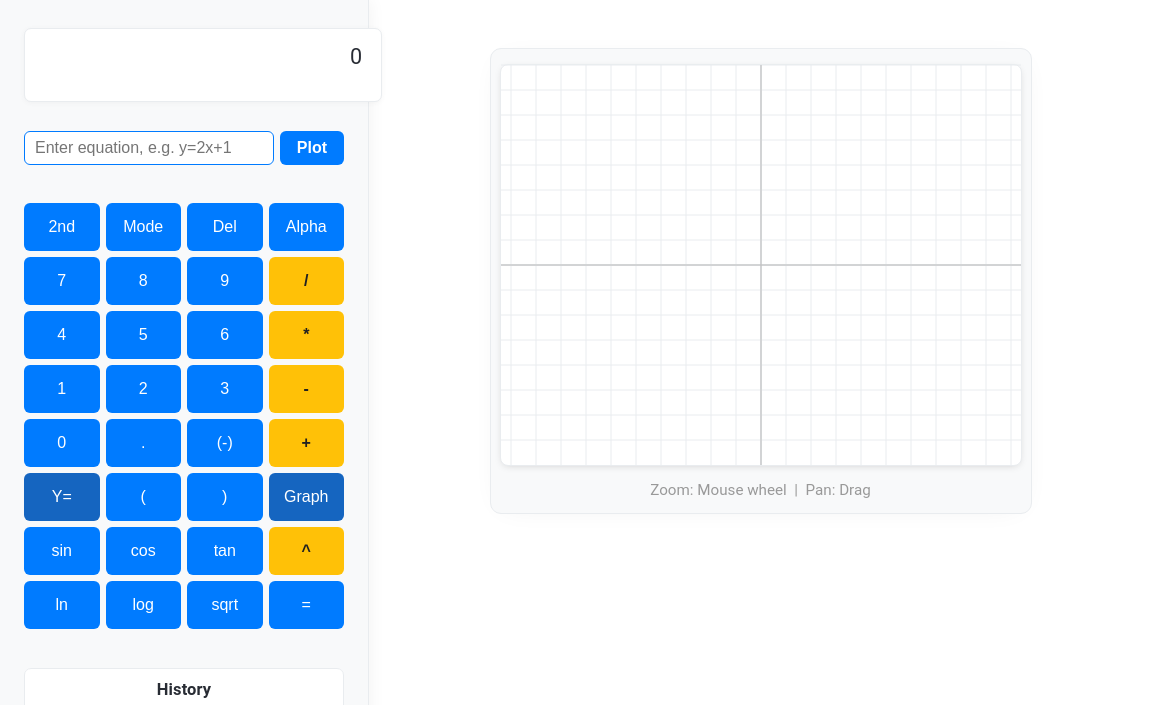
TI-84 Graphing Calculator App › numeric keypad input updates equation
Click the button "Y=" at (62, 497), box [24,473,100,521]
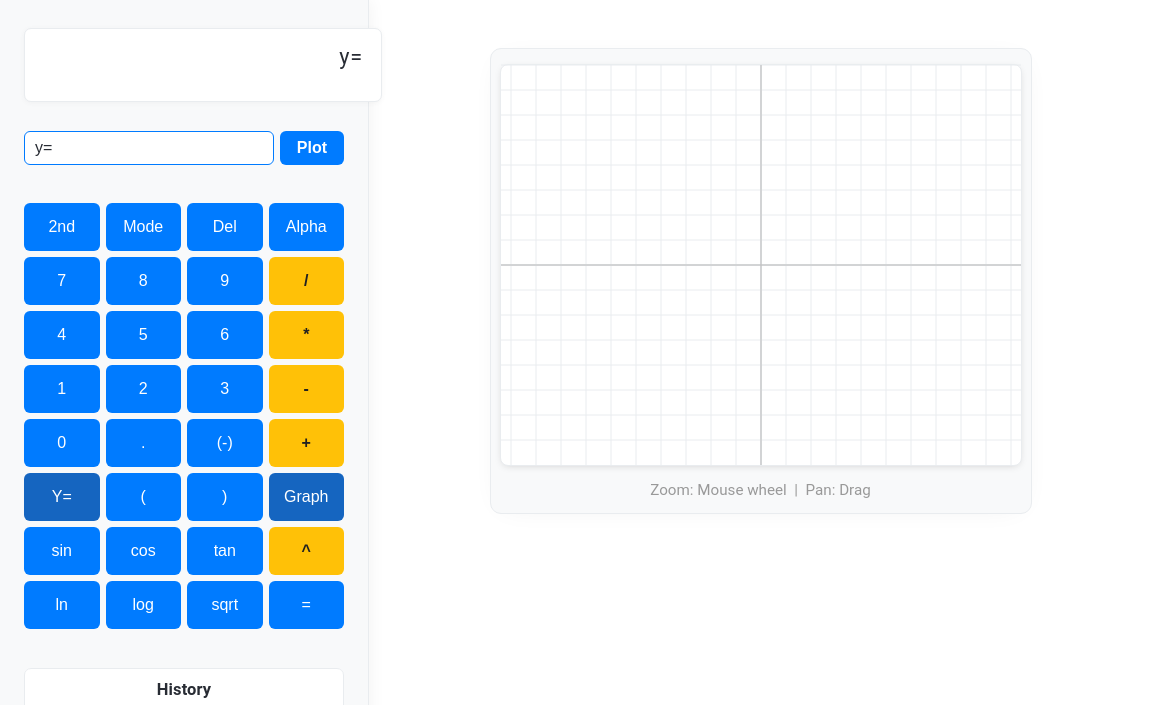
Click the button "1" at (62, 389), box [24,365,100,413]
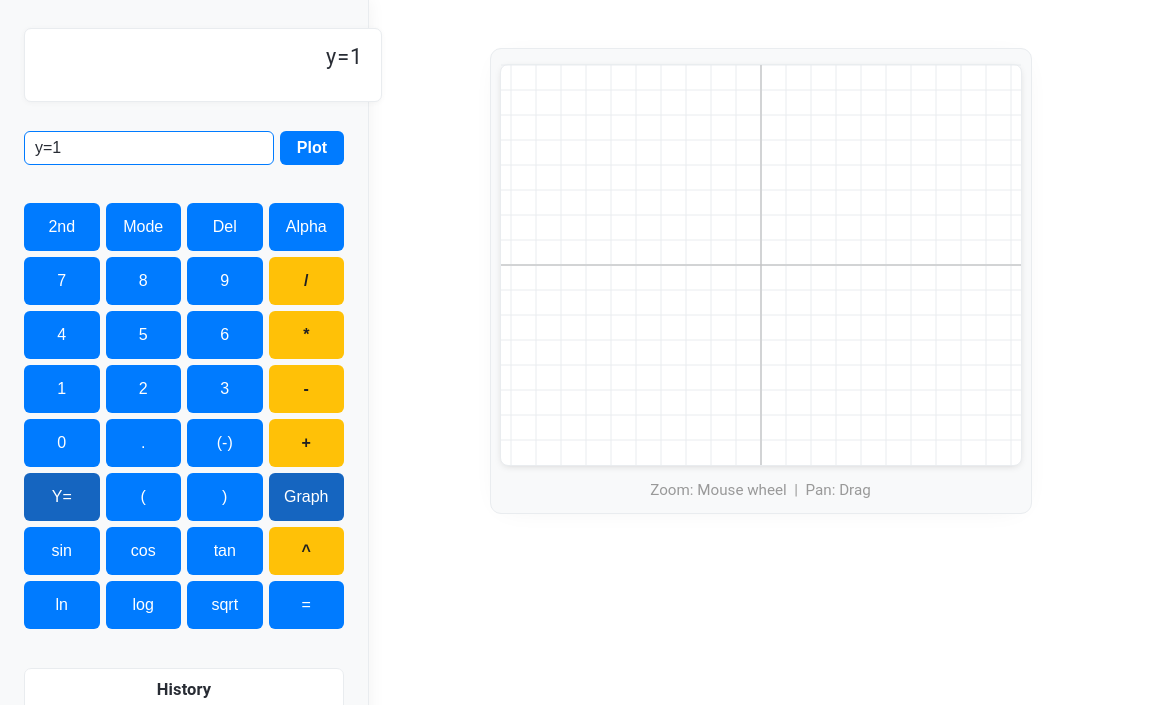
Click the button "+" at (306, 443), box [268,419,344,467]
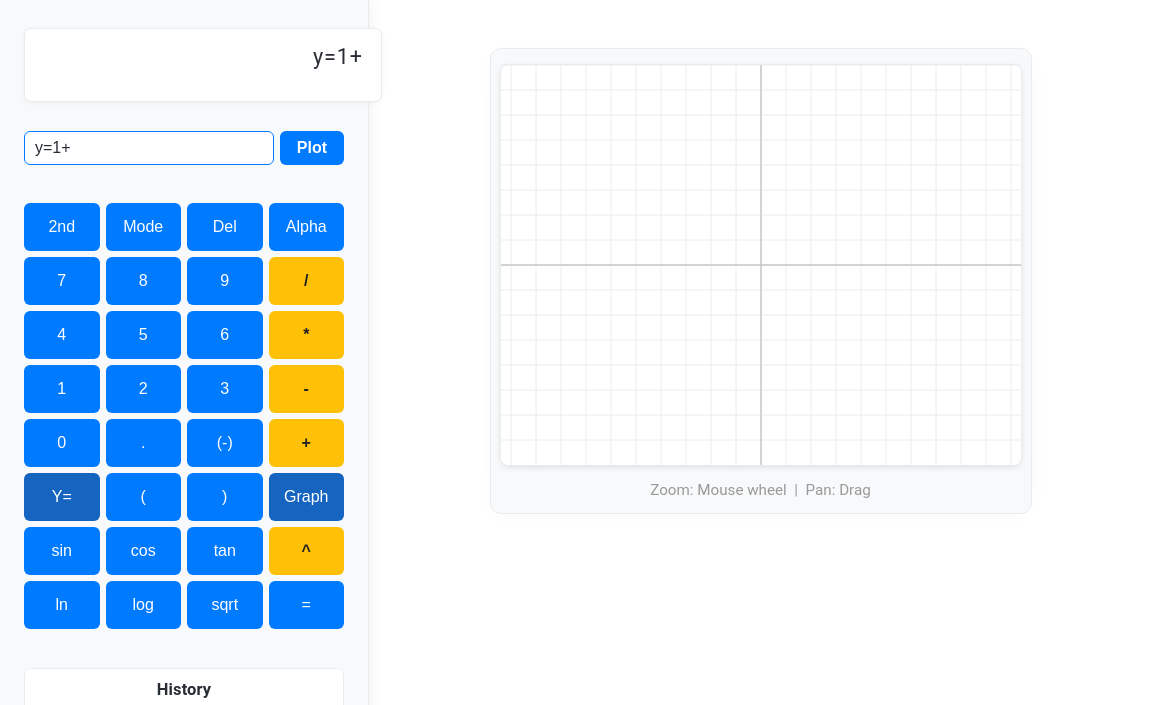
Click the button "2" at (143, 389), box [106,365,181,413]
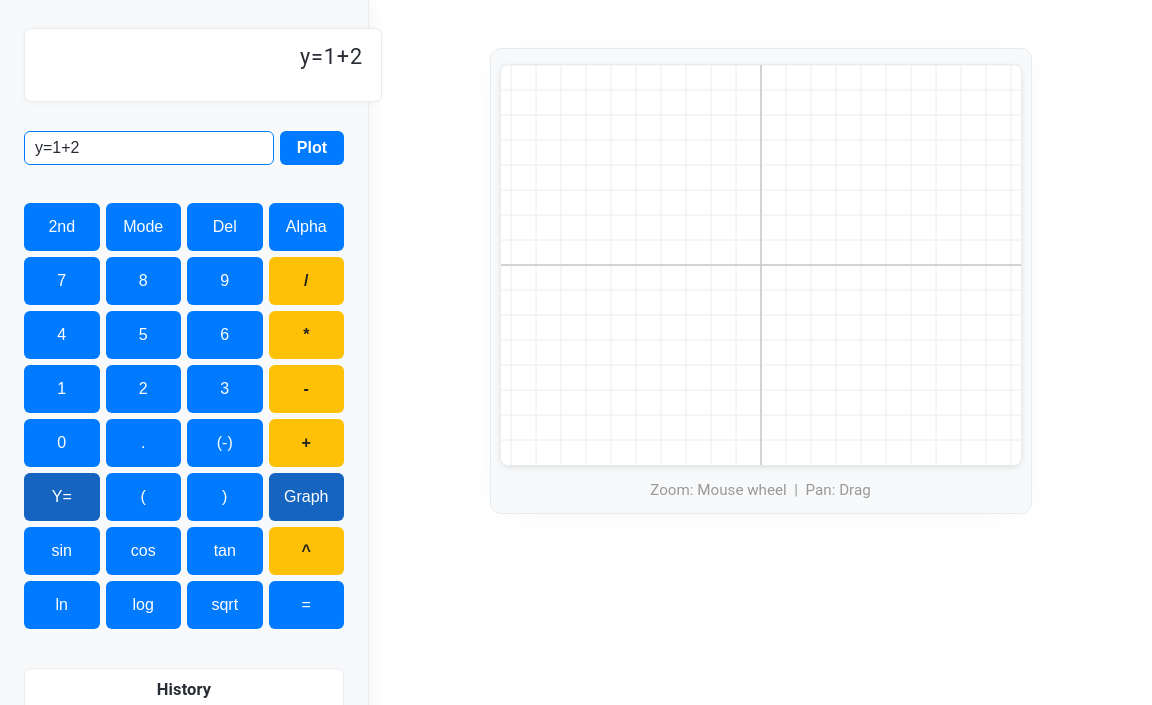
Now the field showing "y=1+2" is shown, box [24,131,274,165]
